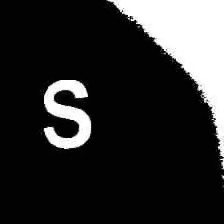LTR_S: (38, 77, 95, 150)
